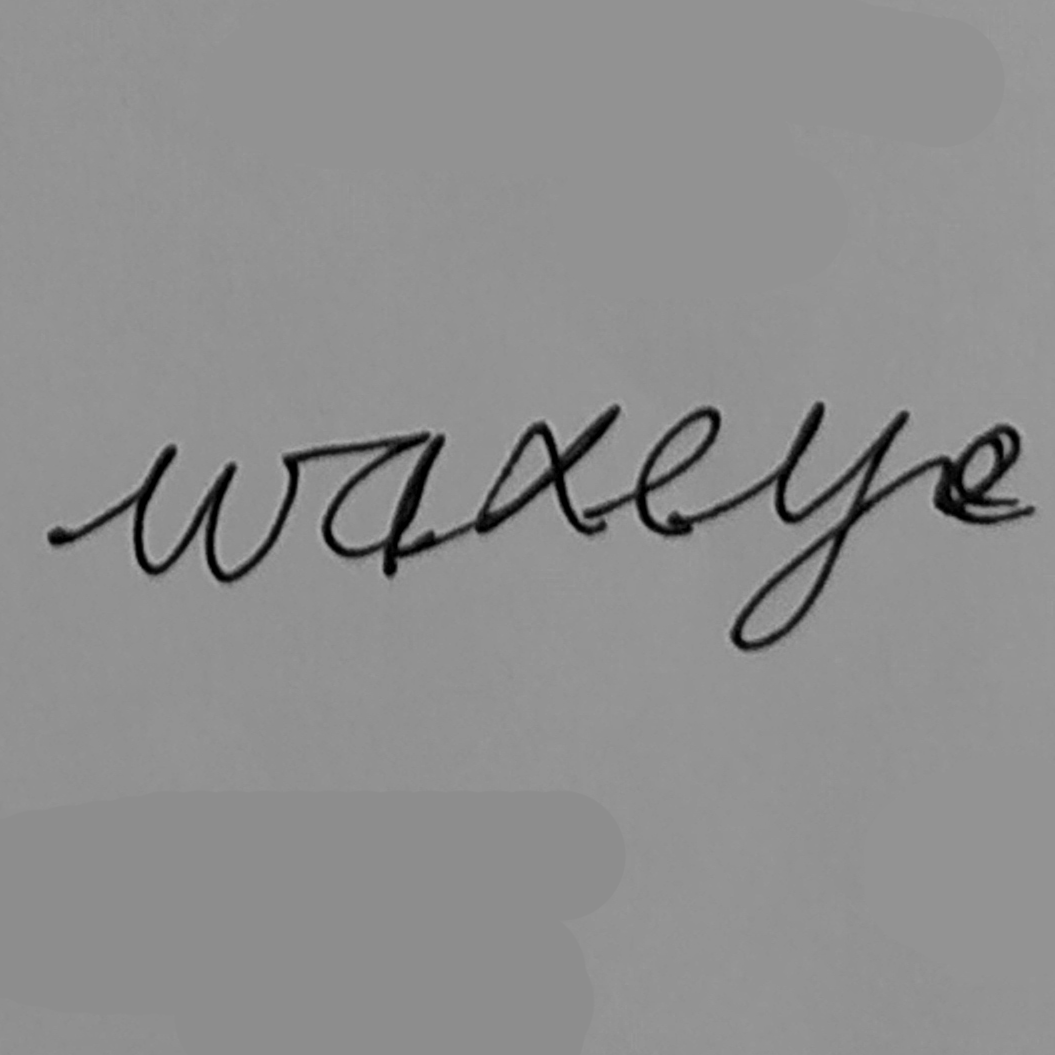a: (316, 428, 451, 577)
e: (630, 402, 727, 543), (928, 420, 1038, 530)
w: (123, 439, 301, 586)
x: (468, 402, 622, 540)
y: (728, 396, 911, 655)
